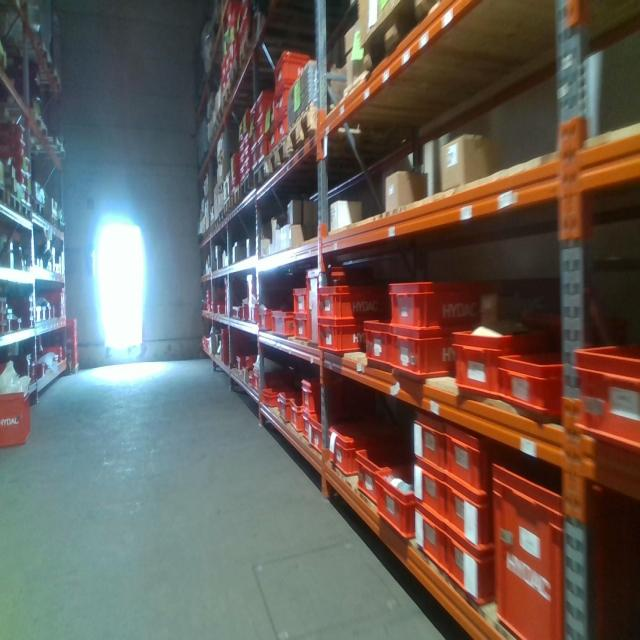pallet: (362, 4, 440, 85), (287, 102, 329, 161), (238, 25, 258, 75), (270, 133, 287, 184), (242, 162, 253, 207), (3, 192, 22, 217), (255, 154, 265, 201), (220, 78, 231, 118), (227, 186, 240, 218), (31, 197, 46, 224), (50, 138, 66, 163), (33, 111, 47, 138), (230, 59, 240, 93), (44, 210, 57, 230), (21, 203, 30, 229), (2, 185, 6, 205)
small_load_carrier: (487, 459, 630, 638), (451, 322, 545, 403), (391, 274, 508, 332), (573, 342, 637, 447), (307, 262, 375, 360), (500, 348, 572, 419), (327, 412, 395, 483), (443, 527, 496, 605), (374, 462, 421, 546), (441, 479, 494, 550), (441, 424, 493, 495), (392, 331, 454, 382), (409, 410, 454, 475), (313, 284, 392, 321), (408, 463, 454, 526), (412, 507, 449, 576), (352, 445, 389, 507), (359, 315, 394, 378), (314, 322, 370, 361), (1, 385, 32, 448), (275, 51, 315, 90), (300, 372, 340, 407), (256, 381, 301, 411), (220, 325, 243, 373), (305, 415, 329, 456), (251, 89, 276, 122), (252, 304, 274, 337), (270, 306, 293, 336), (291, 316, 311, 346), (292, 285, 310, 318), (277, 86, 292, 122), (235, 351, 259, 373), (278, 389, 292, 426), (264, 101, 279, 134), (301, 405, 313, 441), (266, 130, 279, 163), (277, 116, 289, 144), (257, 141, 267, 165), (293, 400, 300, 433), (258, 117, 265, 139)
